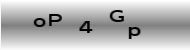4: (78, 20, 93, 33)
G: (109, 9, 125, 23)
P: (47, 13, 62, 26)
o: (32, 17, 46, 27)
p: (127, 26, 141, 40)
